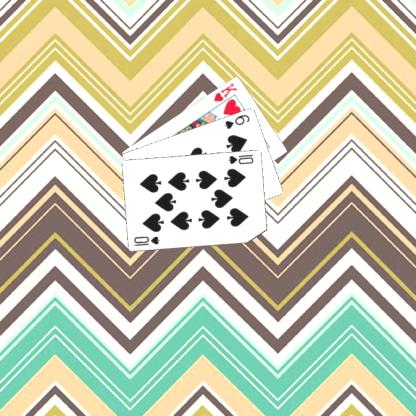10S: (225, 152, 255, 166), (132, 233, 161, 247)
6S: (222, 112, 251, 130)
KH: (210, 80, 238, 103)
